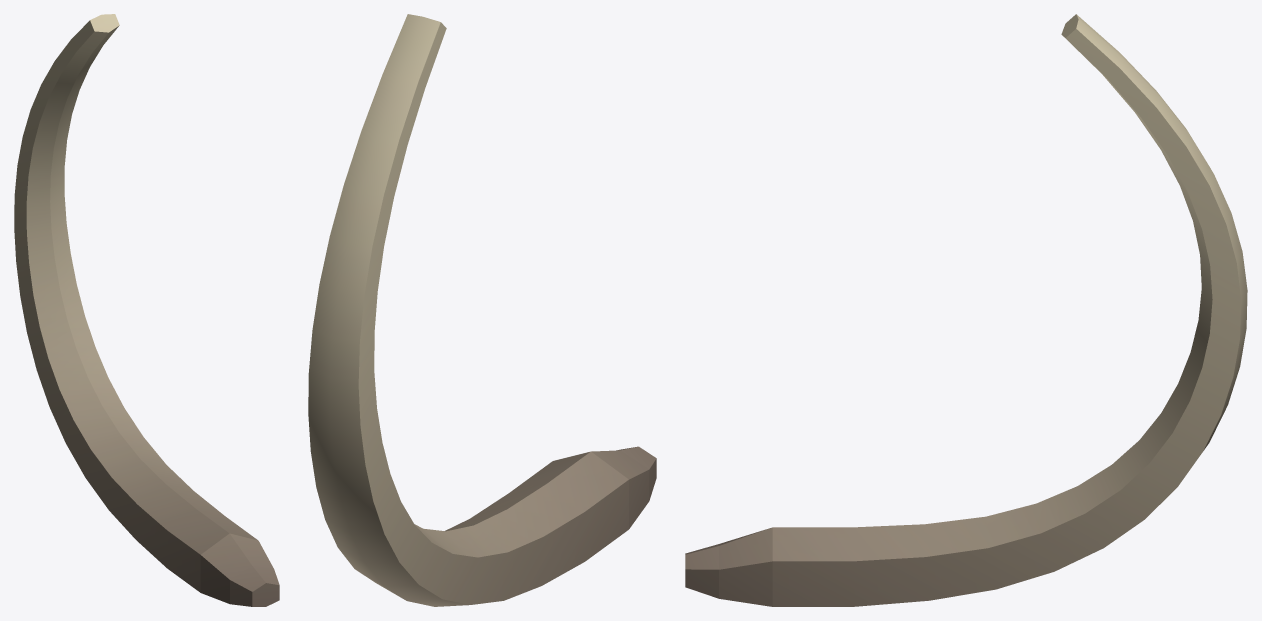
The model's file is SM_Bone_Rib_01.fbx.
3 views of the same model, side by side, from view 1: azimuth 30°, elevation 25°; view 2: azimuth 150°, elevation 25°; view 3: azimuth 270°, elevation 25° (orthographic). The views are drawn at different scales.
Visible parts, largest first — view 1: SM_Bone_Rib_01; view 2: SM_Bone_Rib_01; view 3: SM_Bone_Rib_01.
Part boxes in pixels (<box>): SM_Bone_Rib_01: <box>14,14,279,606</box>; SM_Bone_Rib_01: <box>308,14,656,606</box>; SM_Bone_Rib_01: <box>685,14,1247,606</box>.
Size of the model in its own units: 200 by 1600 by 1403.
Materials: 1 (1 with a texture image).
